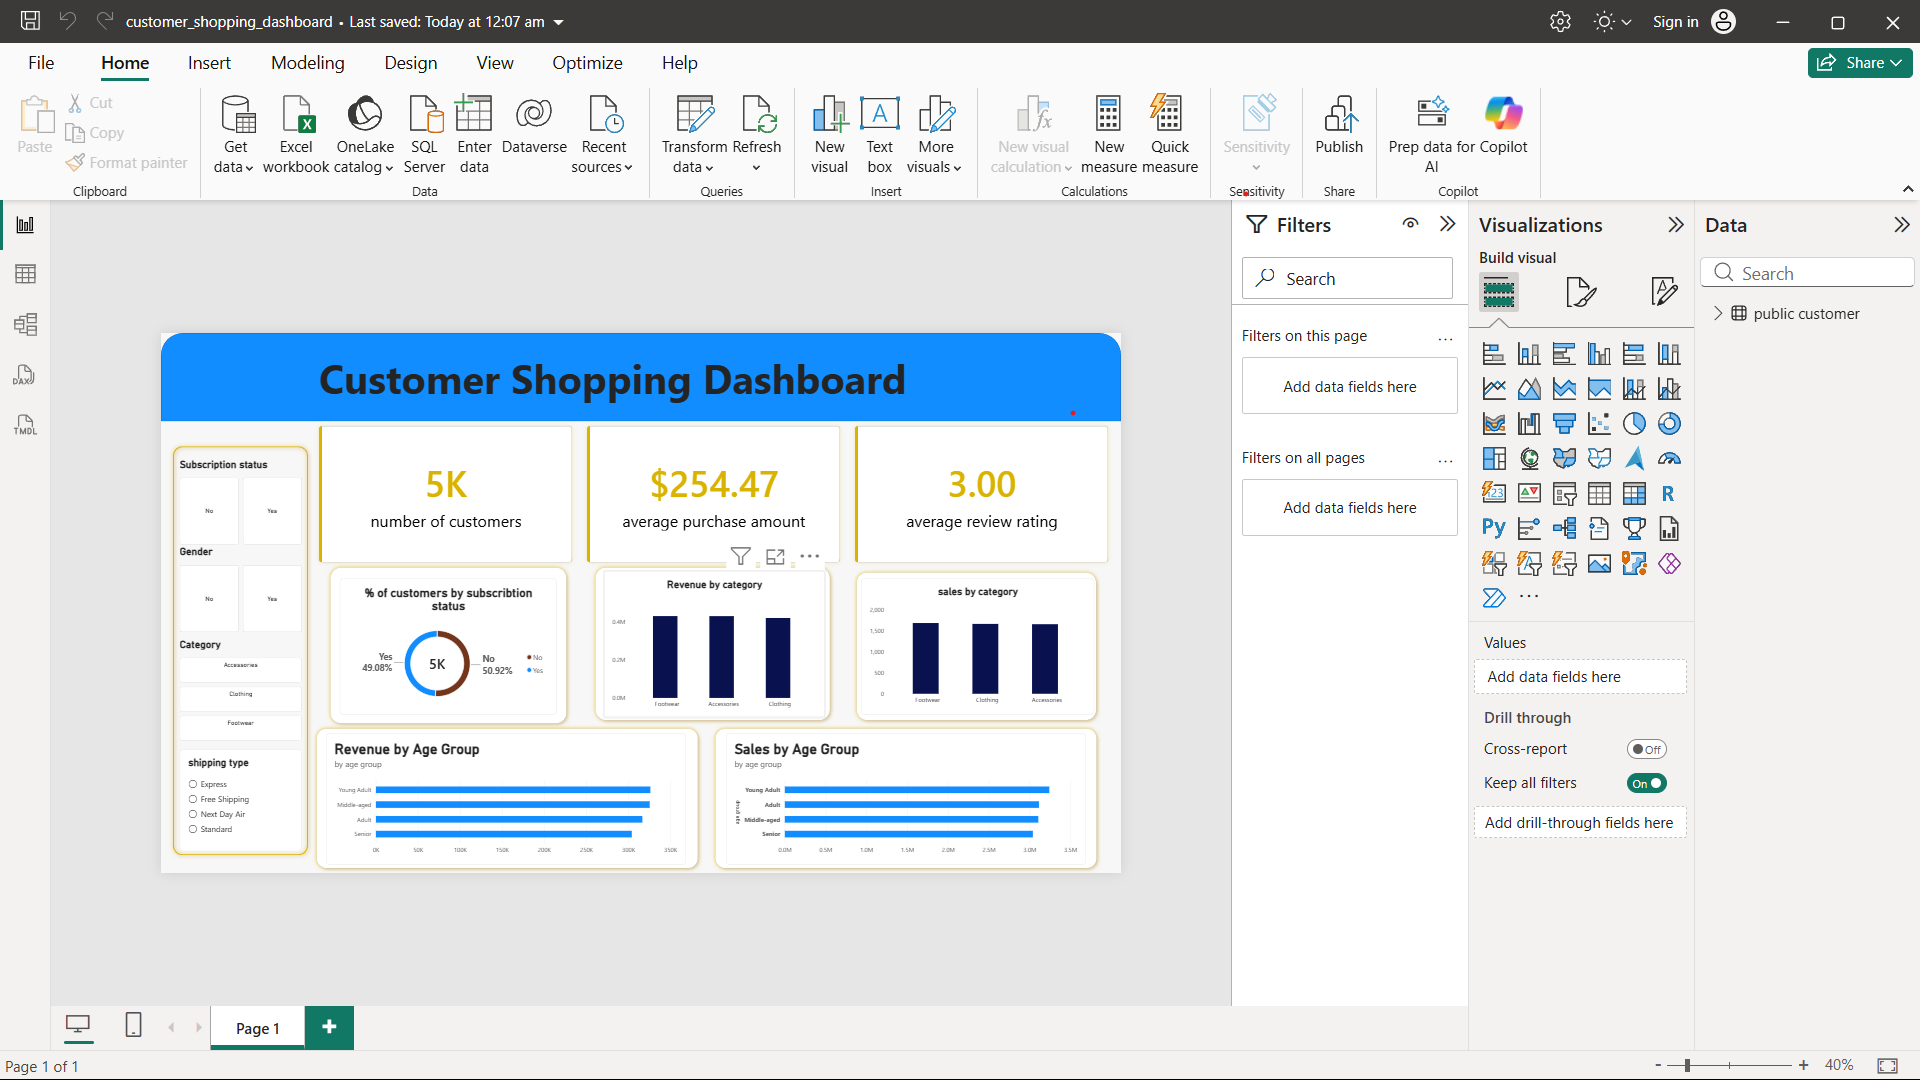

The dashboard page shown, as its layout file describes it:
{"tool":"powerbi","page":{"name":"Page 1","canvas":[1920,1080],"ordinal":0},"visuals":[{"type":"cardVisual","fields":{"Data":["public customer.number of customers","public customer.average purchase amount","public customer.average review rating"]},"box":[305,175,1600,295],"z":0},{"type":"shape","box":[0,0,1920,176.7],"z":1000},{"type":"textbox","box":[258,34,1292,116],"z":2000},{"type":"shape","box":[330,460,490,330],"z":3000},{"type":"donutChart","title":"% of customers by subscribtion status","fields":{"Category":["public customer.subscription_status"],"Y":["CountNonNull(public customer.customer_id)"]},"box":[358,490,433.3,273.3],"z":4000},{"type":"shape","box":[860,460,486.7,323.3],"z":5000},{"type":"shape","box":[1383.3,470,496.7,313.3],"z":6000},{"type":"clusteredColumnChart","title":"Revenue by category","fields":{"Category":["public customer.category"],"Y":["Sum(public customer.purchase_amount)"]},"box":[886,474,443.3,296.7],"z":7000},{"type":"clusteredColumnChart","title":"sales by category","fields":{"Category":["public customer.category"],"Y":["CountNonNull(public customer.customer_id)"]},"box":[1400,490,466.7,273.3],"z":8000},{"type":"shape","box":[16,218,288,836],"z":9000},{"type":"advancedSlicerVisual","fields":{"Values":["public customer.subscription_status"]},"box":[38,250,244,174],"z":10000},{"type":"advancedSlicerVisual","fields":{"Values":["public customer.subscription_status"]},"box":[38,424,244,174],"z":11000},{"type":"advancedSlicerVisual","title":"Category","fields":{"Values":["public customer.category"]},"box":[38,610,244,206],"z":12000},{"type":"listSlicer","fields":{"Values":["public customer.shipping_type"]},"box":[38,832,244,204],"z":13000},{"type":"shape","box":[303.3,783.3,780,296.7],"z":14000},{"type":"clusteredBarChart","fields":{"Category":["public customer.age_group"],"Y":["Sum(public customer.purchase_amount)"]},"box":[330,800,720,263.3],"z":15000},{"type":"shape","box":[1100,783.3,780,296.7],"z":16000},{"type":"clusteredBarChart","fields":{"Category":["public customer.age_group"],"Y":["Sum(public customer.customer_id)"]},"box":[1130,800,720,263.3],"z":17000}]}

Visuals, with their boxes on the page's 1920x1080 design canvas (x1, y1, x2, y2). These are canvas units, not pixel positions in the 1920x1080 screenshot, which may show the page scaled, cropped or inside an application window:
cardVisual - public customer.number of customers x public customer.average purchase amount: (x1=305, y1=175, x2=1905, y2=470)
shape: (x1=0, y1=0, x2=1920, y2=177)
textbox: (x1=258, y1=34, x2=1550, y2=150)
shape: (x1=330, y1=460, x2=820, y2=790)
"% of customers by subscribtion status" donutChart: (x1=358, y1=490, x2=791, y2=763)
shape: (x1=860, y1=460, x2=1347, y2=783)
shape: (x1=1383, y1=470, x2=1880, y2=783)
"Revenue by category" clusteredColumnChart: (x1=886, y1=474, x2=1329, y2=771)
"sales by category" clusteredColumnChart: (x1=1400, y1=490, x2=1867, y2=763)
shape: (x1=16, y1=218, x2=304, y2=1054)
advancedSlicerVisual - public customer.subscription_status: (x1=38, y1=250, x2=282, y2=424)
advancedSlicerVisual - public customer.subscription_status: (x1=38, y1=424, x2=282, y2=598)
"Category" advancedSlicerVisual: (x1=38, y1=610, x2=282, y2=816)
listSlicer - public customer.shipping_type: (x1=38, y1=832, x2=282, y2=1036)
shape: (x1=303, y1=783, x2=1083, y2=1080)
clusteredBarChart - public customer.age_group x Sum(public customer.purchase_amount): (x1=330, y1=800, x2=1050, y2=1063)
shape: (x1=1100, y1=783, x2=1880, y2=1080)
clusteredBarChart - public customer.age_group x Sum(public customer.customer_id): (x1=1130, y1=800, x2=1850, y2=1063)
